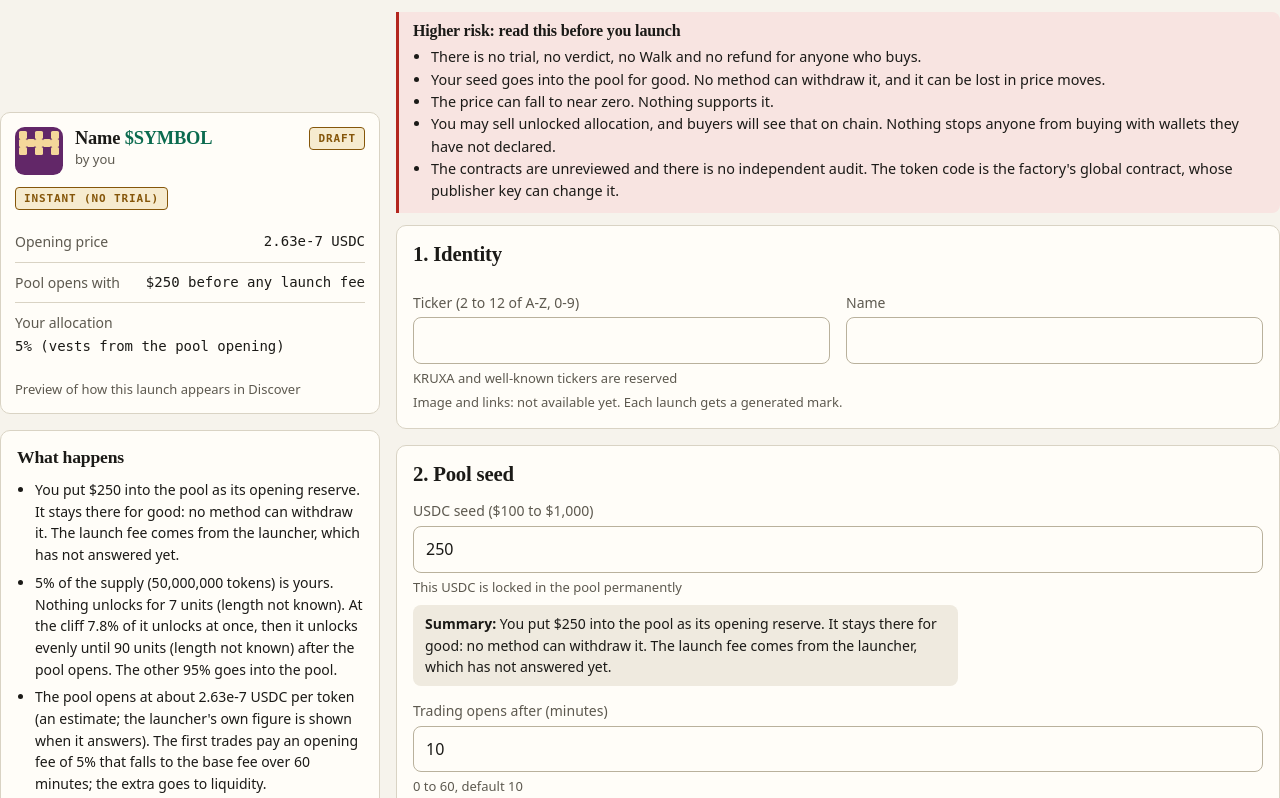
Test: Instant studio › trading opens after 10 minutes by default; 0 says trading opens with the pool, and more than 60 is refused in the field
The image size is (1280, 798).
Replace the text in the field labelled "Trading opens after (minutes)" with "0" at point(838, 749), box [413,726,1263,772]
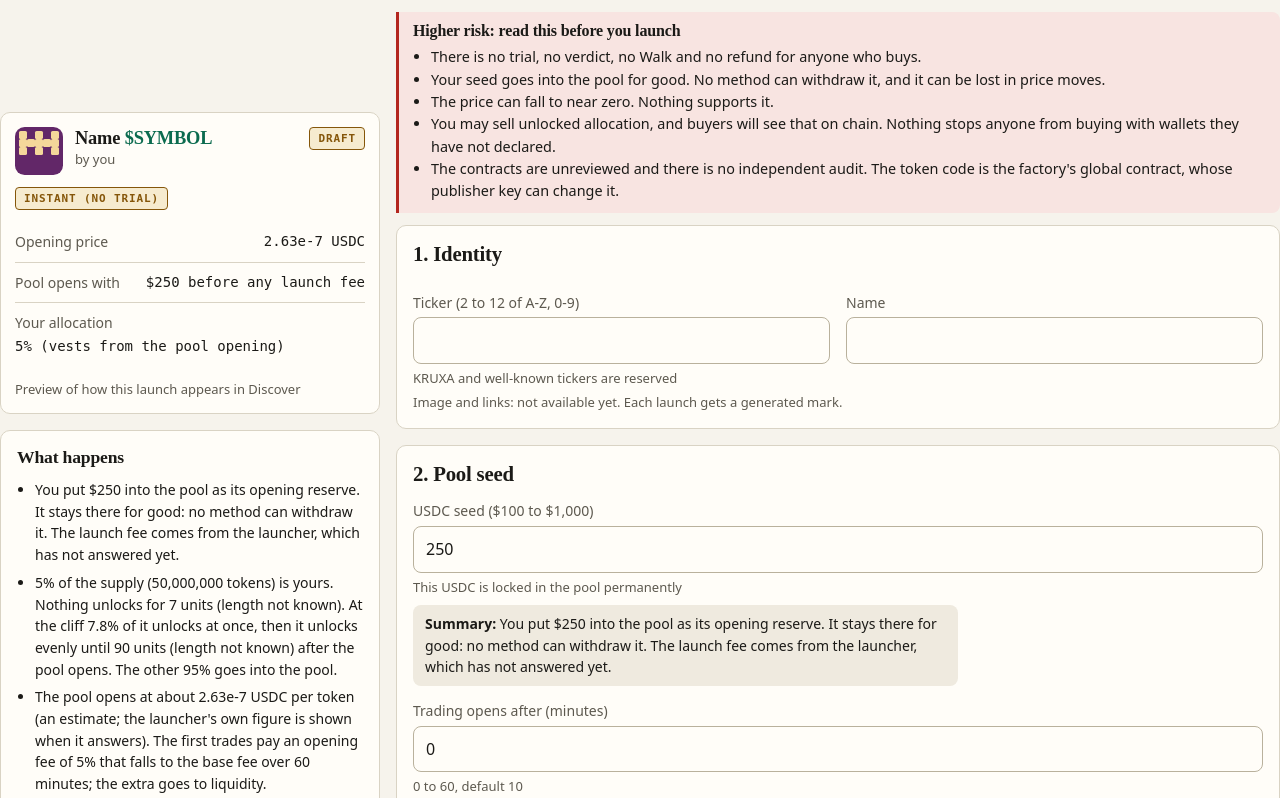
Replace the text in the field labelled "Trading opens after (minutes)" with "61" at point(838, 749), box [413,726,1263,772]
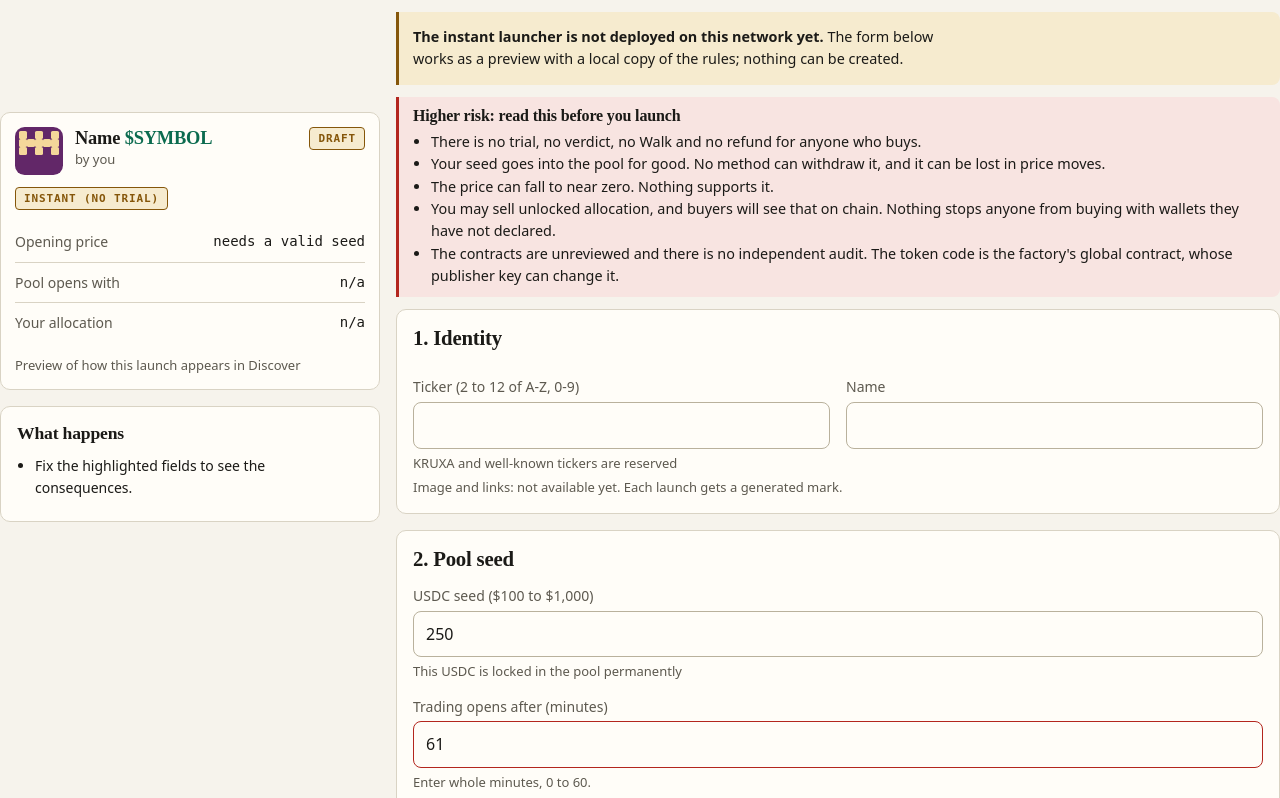
Now the text "Enter whole minutes, 0 to 60." is shown, box [413,773,591,791]
